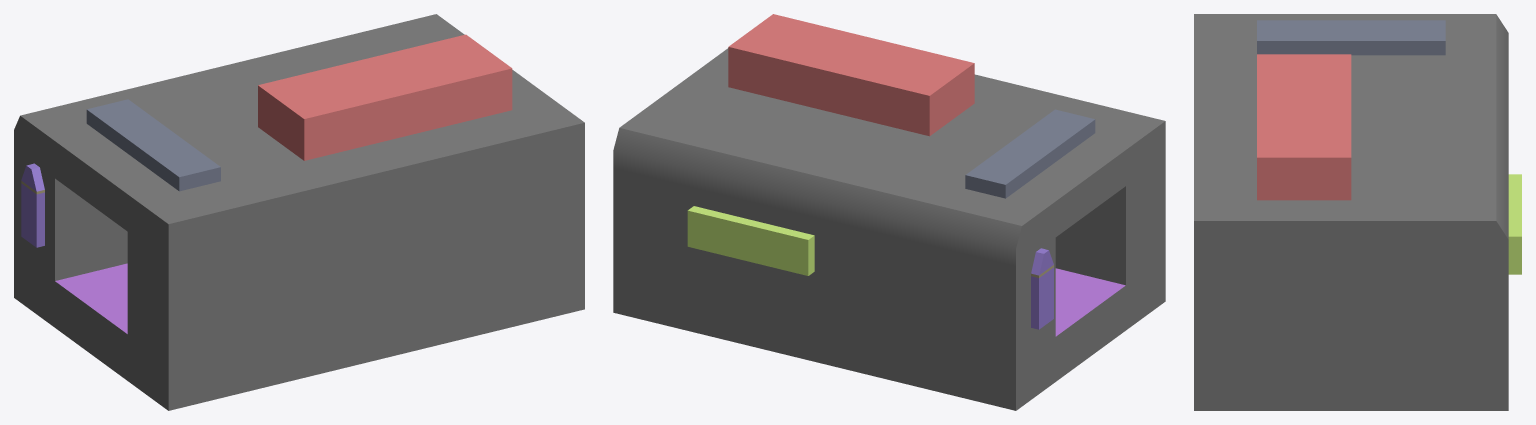
File: InputMachine.FBX
3 views of the same model, side by side, from view 1: azimuth 30°, elevation 25°; view 2: azimuth 150°, elevation 25°; view 3: azimuth 270°, elevation 25° (orthographic). The views are drawn at different scales.
Parts seen in each view (by area): view 1: Box005; view 2: Box005; view 3: Box005.
Part boxes in pixels (x1,y1,x2,y2): Box005: (14,14,584,410); Box005: (613,14,1165,410); Box005: (1194,14,1521,410).
Size of the model in its own units: 71.39 by 36.71 by 46.9.
